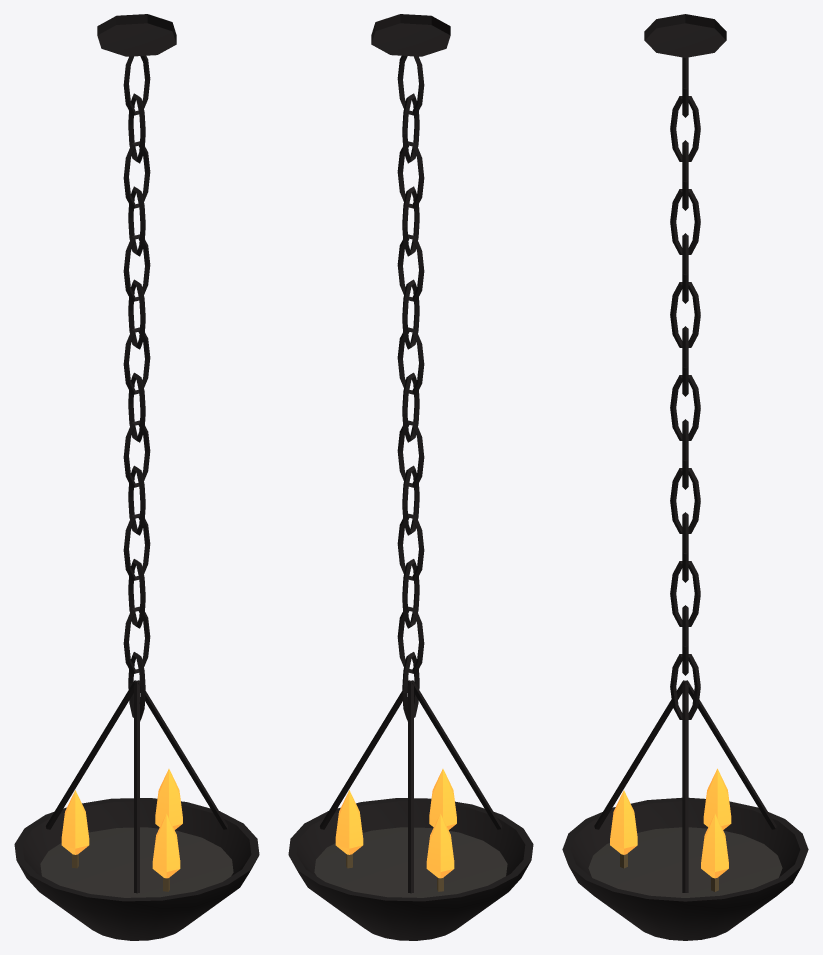
File: haengelampe.glb
3 renders of one model, left to right at view 1: azimuth 30°, elevation 25°; view 2: azimuth 150°, elevation 25°; view 3: azimuth 270°, elevation 25°, orthographic.
Parts seen in each view (by area): view 1: haengelampe; view 2: haengelampe; view 3: haengelampe.
Boxes of the visible parts, left/top/right/bottom form: haengelampe: left=14, top=14, right=259, bottom=940; haengelampe: left=288, top=14, right=533, bottom=940; haengelampe: left=562, top=14, right=808, bottom=940.
Bounding box in the file's own units: 0.24 × 0.96 × 0.24.
